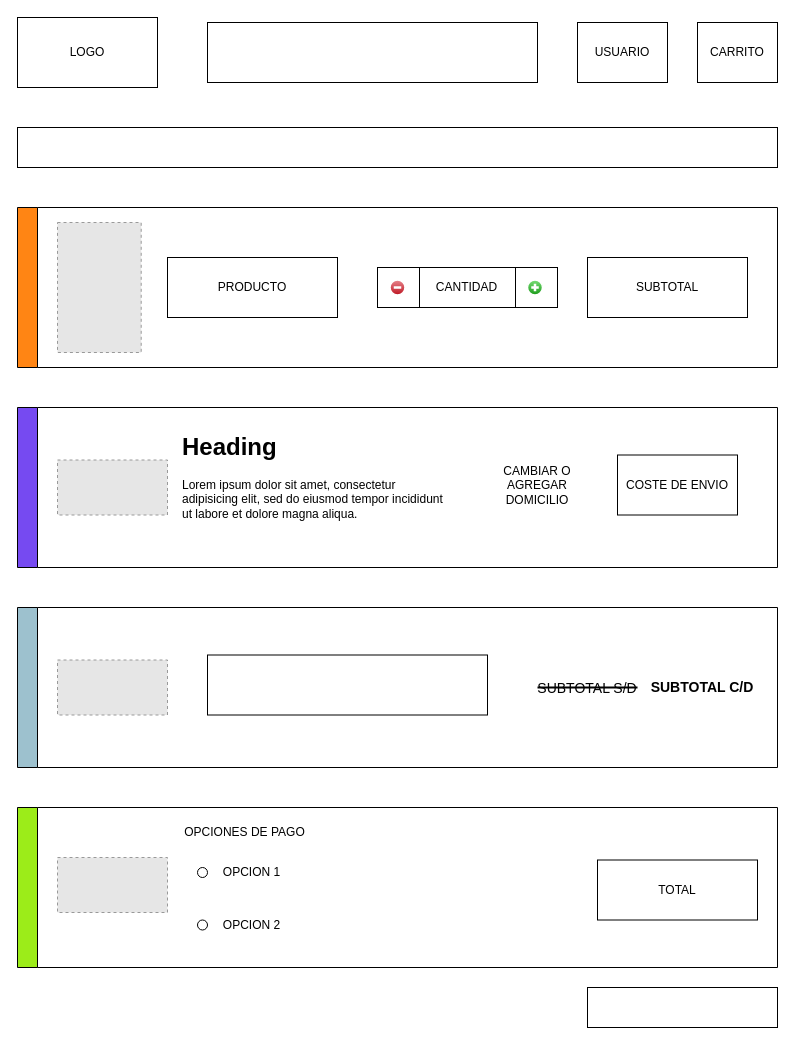
Some shapes in this 795 by 1045 pixel diagram are drawn without their labels. Grey dashed boxes stand in for pictures. The centre of each missing label's shape, as x and y in pixels:
"BUSCADOR" belongs at pixel 372 52.
"COMPRAR" belongs at pixel 682 1007.
"INGRESAR CODIGO DE DESCUENTO" belongs at pixel 347 684.
